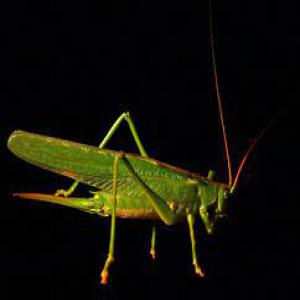locust: (10, 111, 239, 252)
